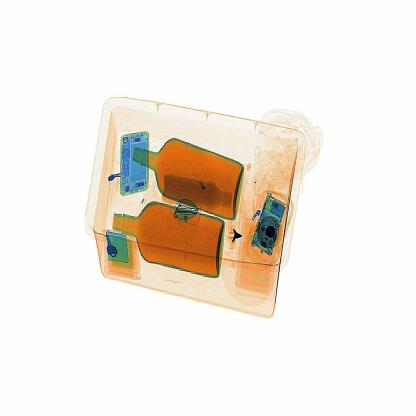gun: (224, 219, 252, 253)
